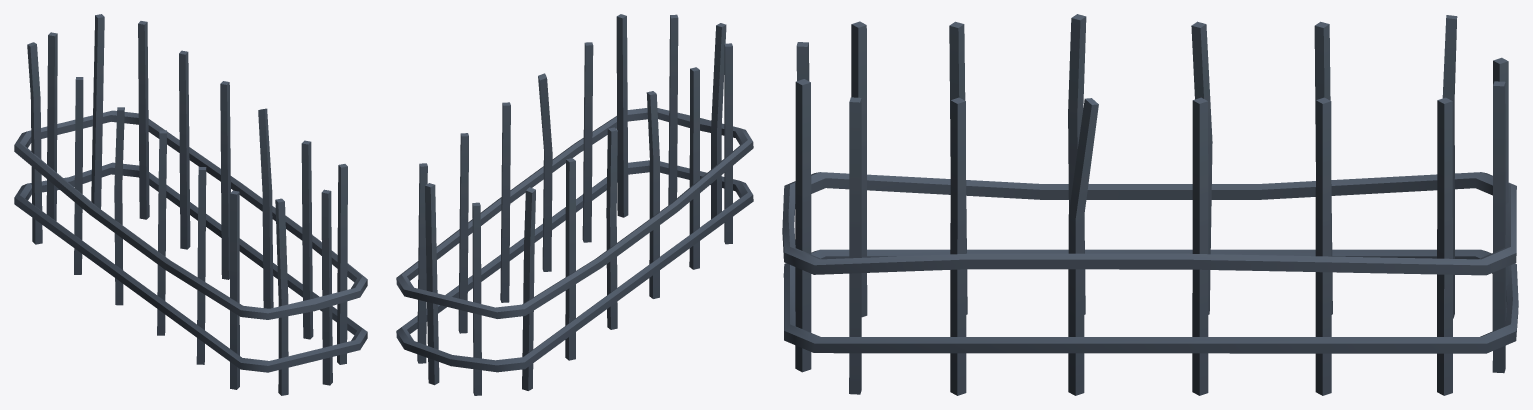
The model's file is RreinforcingBars_C_2__.fbx.
The picture shows the model from 3 angles, left to right: view 1: azimuth 30°, elevation 25°; view 2: azimuth 150°, elevation 25°; view 3: azimuth 270°, elevation 25°; orthographic projection. The views are drawn at different scales.
Parts seen in each view (by area): view 1: RreinforcingBars_C_2; view 2: RreinforcingBars_C_2; view 3: RreinforcingBars_C_2.
Part boxes in pixels (x1=…): RreinforcingBars_C_2: x1=14, y1=14, x2=367, y2=395; RreinforcingBars_C_2: x1=396, y1=14, x2=753, y2=395; RreinforcingBars_C_2: x1=782, y1=14, x2=1518, y2=395.
Size of the model in its own units: 42.53 by 64.27 by 143.
